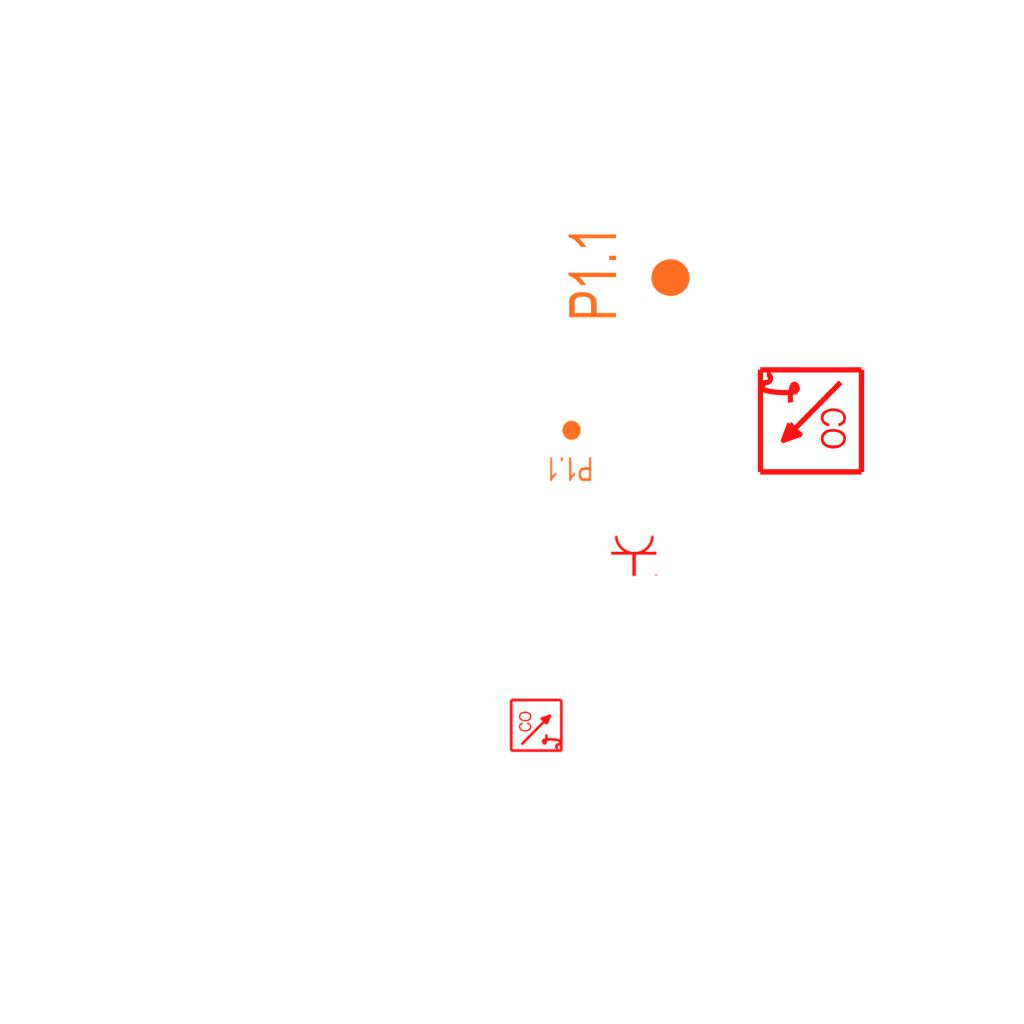Downlight_LED_Einbauleuchten_Flur: (565, 228, 693, 321), (547, 419, 593, 483)
ROA_Rauchmelder_optisch_mit_Signalgeber_(Sockelsirene): (753, 365, 866, 478), (509, 697, 565, 753)
Schukosteckdose_einfach: (610, 534, 660, 577)
